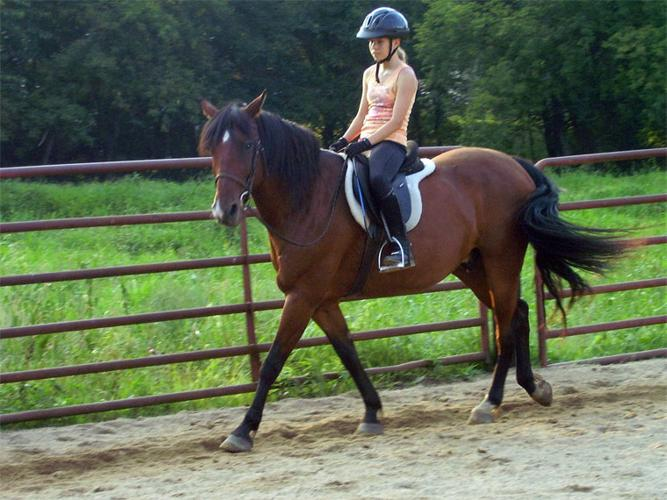person: (330, 7, 419, 270)
